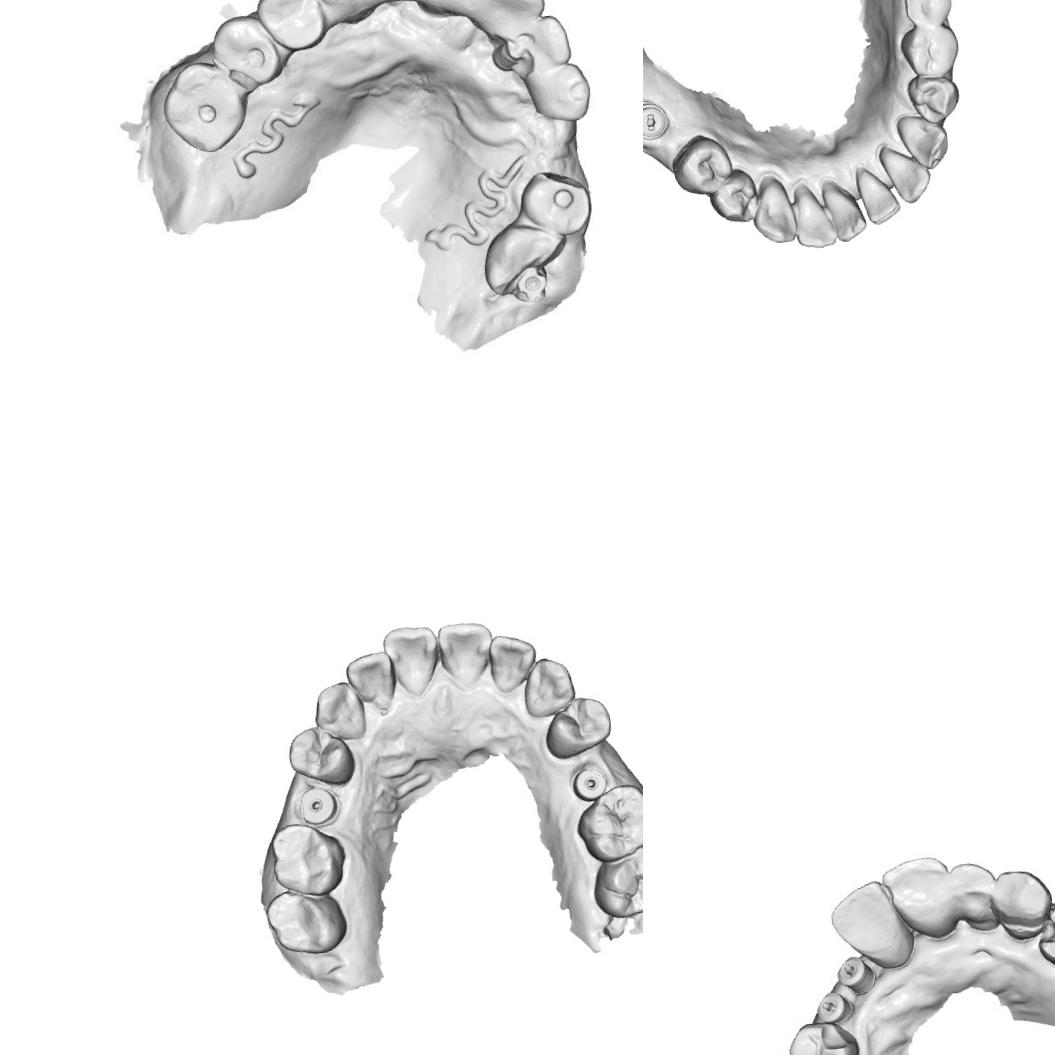canine: (989, 861, 1055, 935), (516, 652, 580, 722), (522, 62, 590, 126), (307, 678, 371, 744), (747, 174, 800, 250), (892, 110, 954, 174), (314, 0, 375, 23)
implant: (296, 784, 340, 827), (570, 764, 610, 804)
implant_minus: (643, 97, 674, 144), (814, 989, 856, 1023), (834, 955, 874, 988)
incisor: (876, 853, 959, 936), (823, 877, 901, 960), (380, 622, 444, 702), (435, 618, 499, 692), (943, 856, 1002, 929), (876, 140, 934, 208), (790, 179, 842, 254), (342, 648, 401, 714), (484, 631, 540, 697), (819, 176, 870, 246), (853, 164, 903, 229), (473, 0, 540, 39), (519, 16, 571, 66), (419, 0, 495, 21)
molar: (156, 57, 250, 160), (267, 817, 352, 902), (262, 884, 352, 960), (570, 781, 643, 867), (518, 163, 594, 238), (588, 841, 643, 922), (899, 0, 958, 31)
premolar: (284, 720, 359, 791), (540, 693, 615, 762), (212, 13, 281, 87), (666, 131, 738, 201), (896, 18, 964, 83), (904, 68, 965, 130), (707, 164, 763, 228), (781, 1015, 863, 1055), (256, 0, 325, 47)
